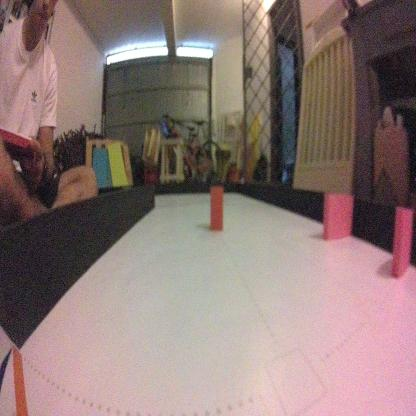magenta: (319, 188, 354, 240), (390, 204, 412, 282)
red: (209, 180, 223, 230)
